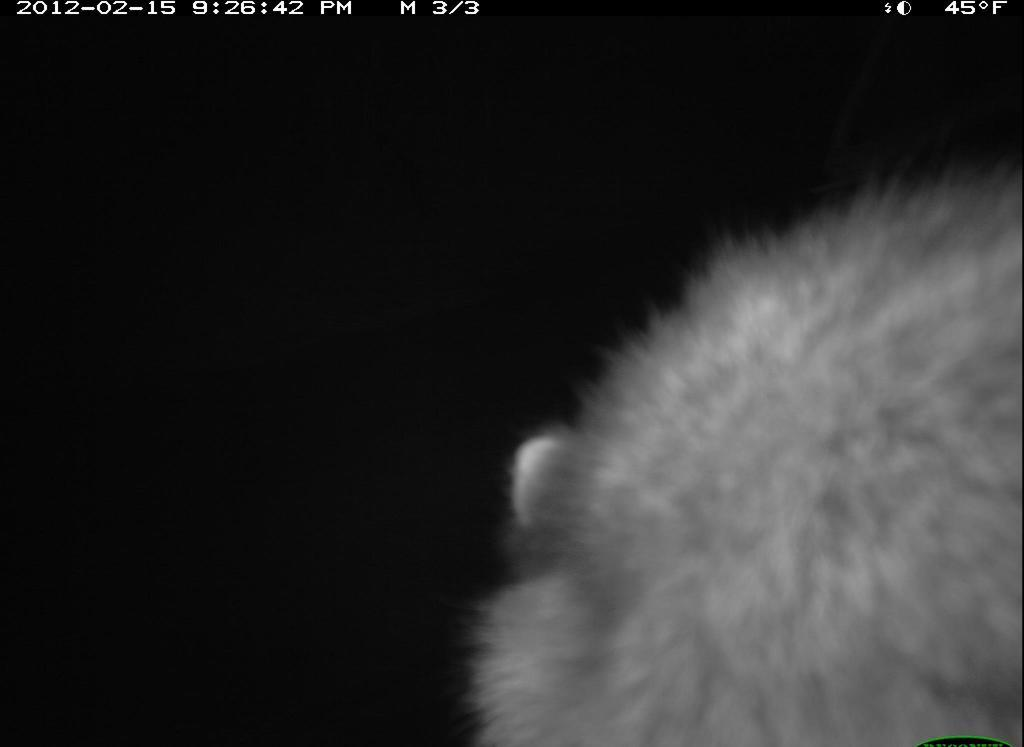raccoon: (440, 149, 1018, 740)
